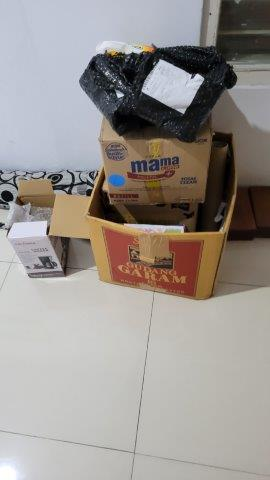kardus: (84, 115, 241, 301), (7, 181, 92, 281)
kertas: (138, 57, 204, 117)
